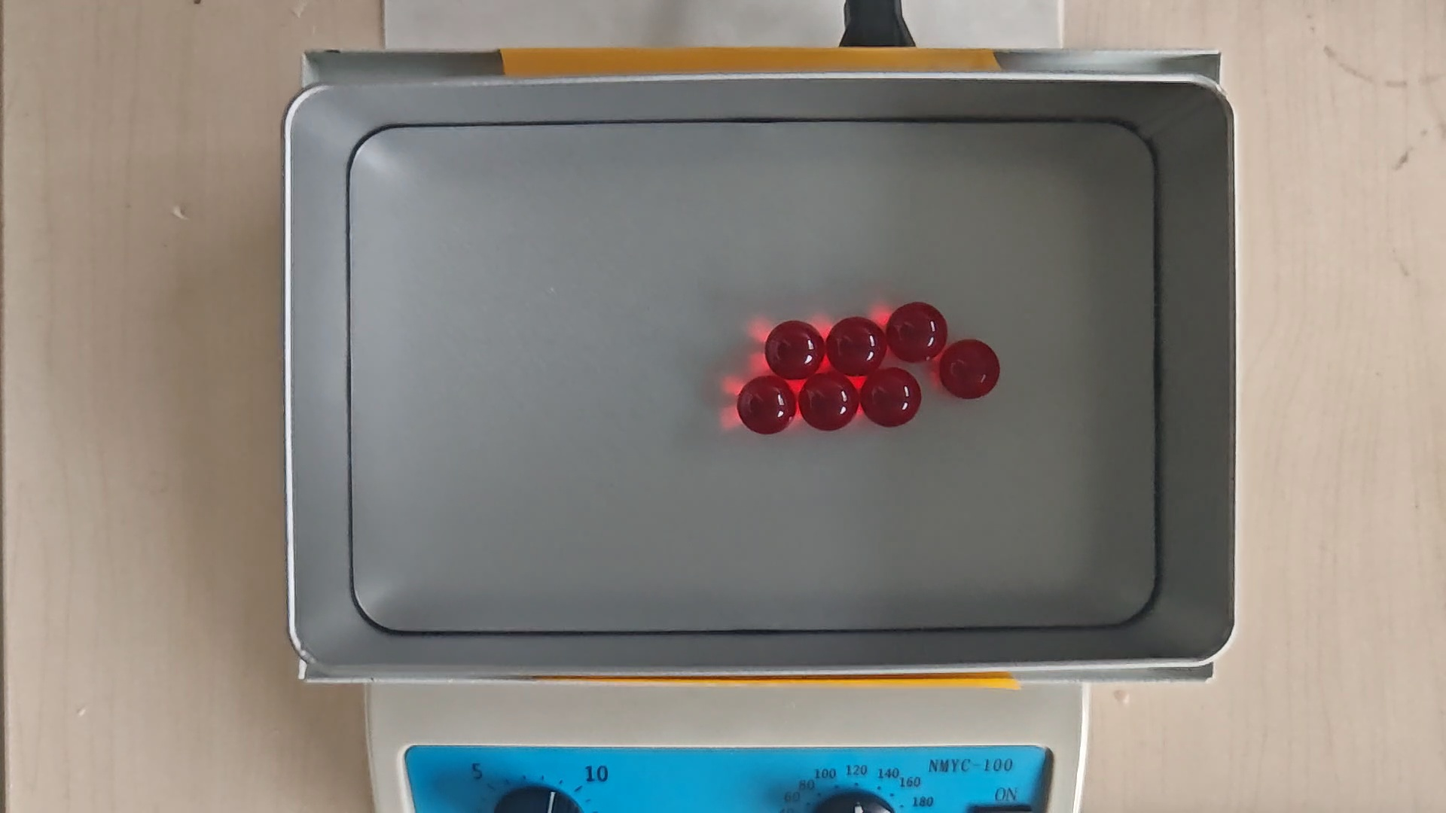ball: (939, 339, 999, 399), (738, 375, 797, 436), (888, 302, 947, 362), (766, 319, 822, 379), (862, 370, 919, 428), (828, 316, 885, 373), (802, 373, 856, 431)
container: (343, 120, 1154, 629)
